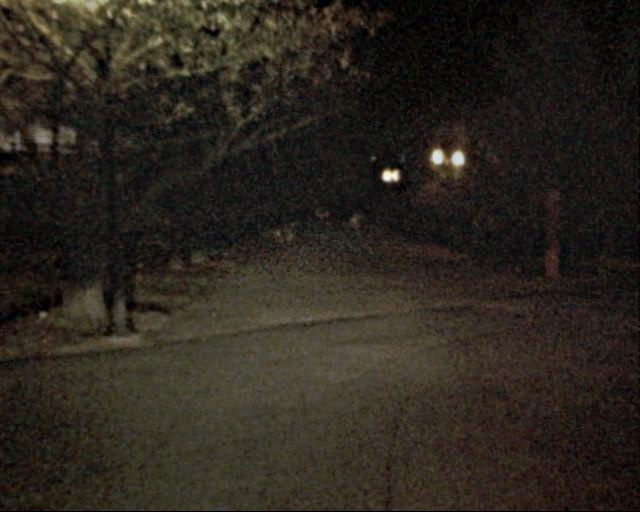person: (343, 213, 361, 258)
